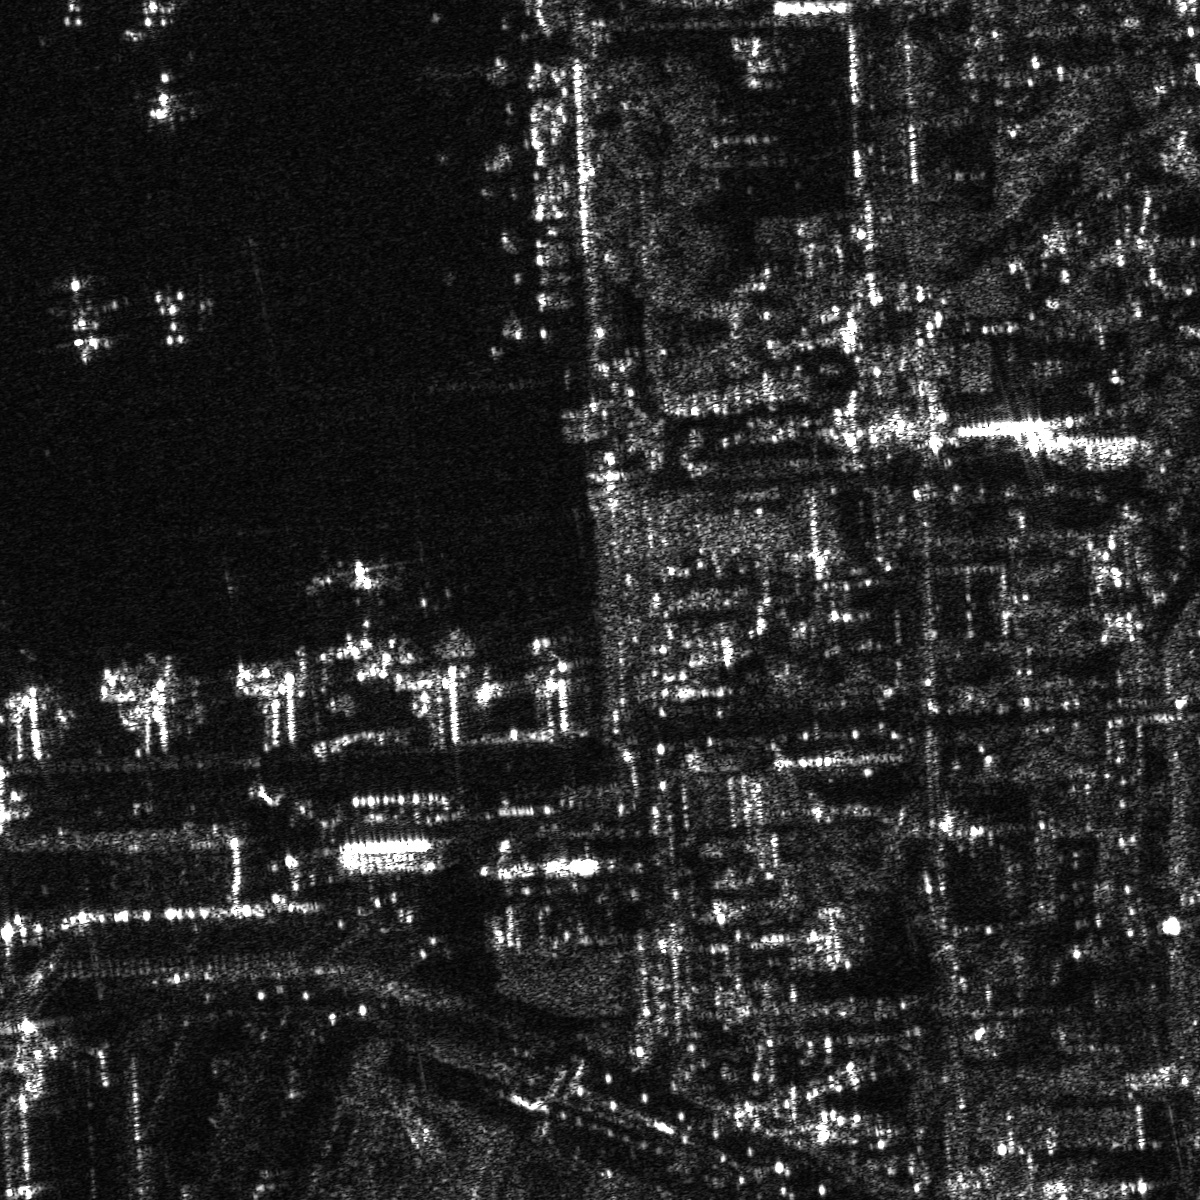A220: (142, 279, 202, 353)
ARJ21: (140, 65, 193, 136)
Boeing787: (313, 545, 396, 610)
other: (38, 267, 136, 368)
